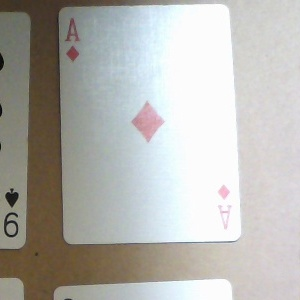card: (57, 3, 243, 246)
